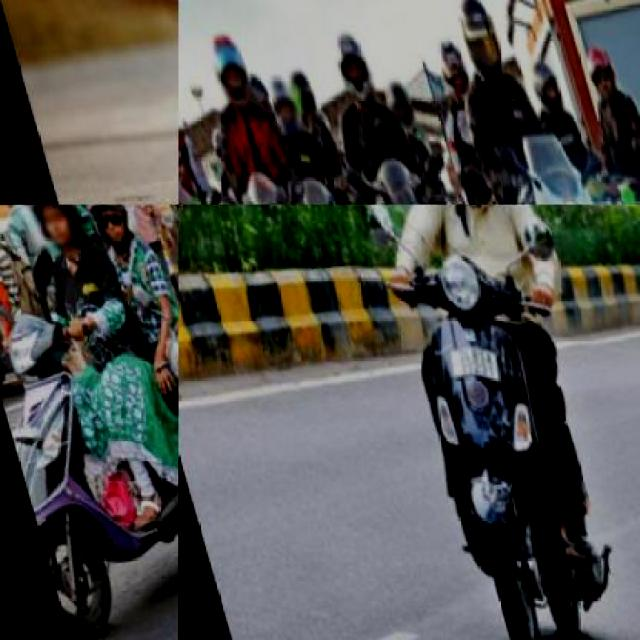With Helmet: (198, 18, 252, 104), (444, 0, 506, 72), (8, 205, 88, 260), (325, 18, 377, 98), (426, 18, 472, 92), (261, 66, 304, 139), (76, 205, 142, 252), (575, 26, 622, 91), (521, 39, 564, 103), (277, 55, 318, 122), (376, 62, 416, 126)
